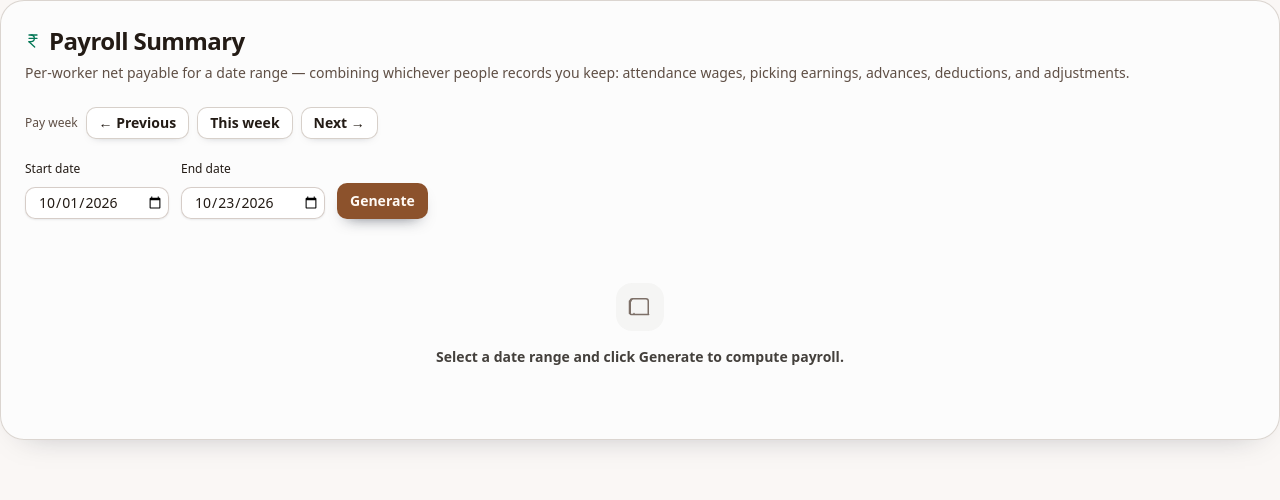
Test case: the wage table's columns line up › every row is exactly as wide as the header, with the rule columns on
Click the button "Generate". click: (382, 201)
box: top-left (337, 183), bottom-right (428, 219)
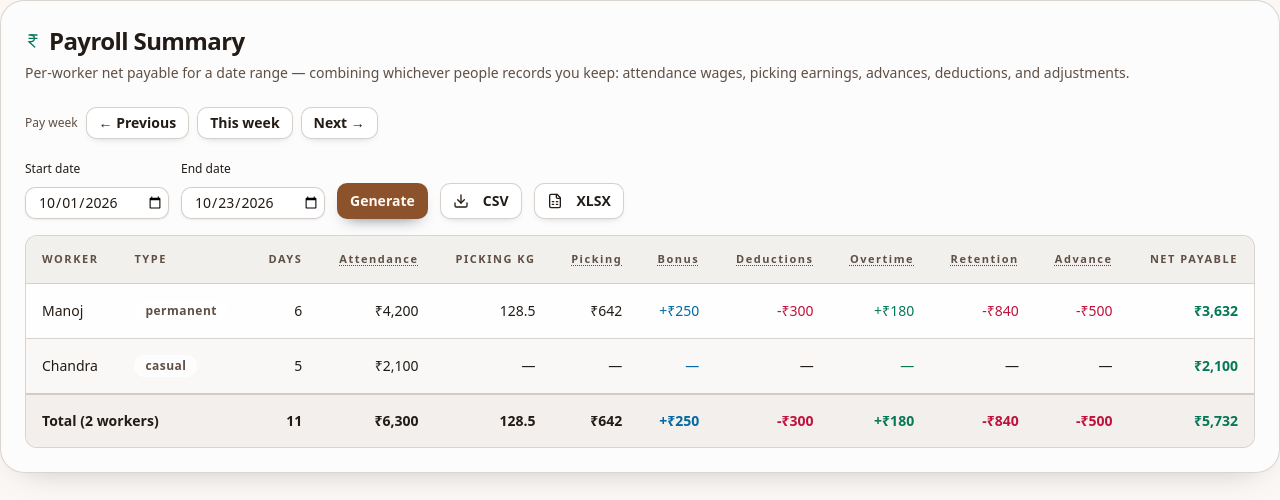
Check: the text "Manoj" is shown, box top-left (42, 301), bottom-right (83, 320)
